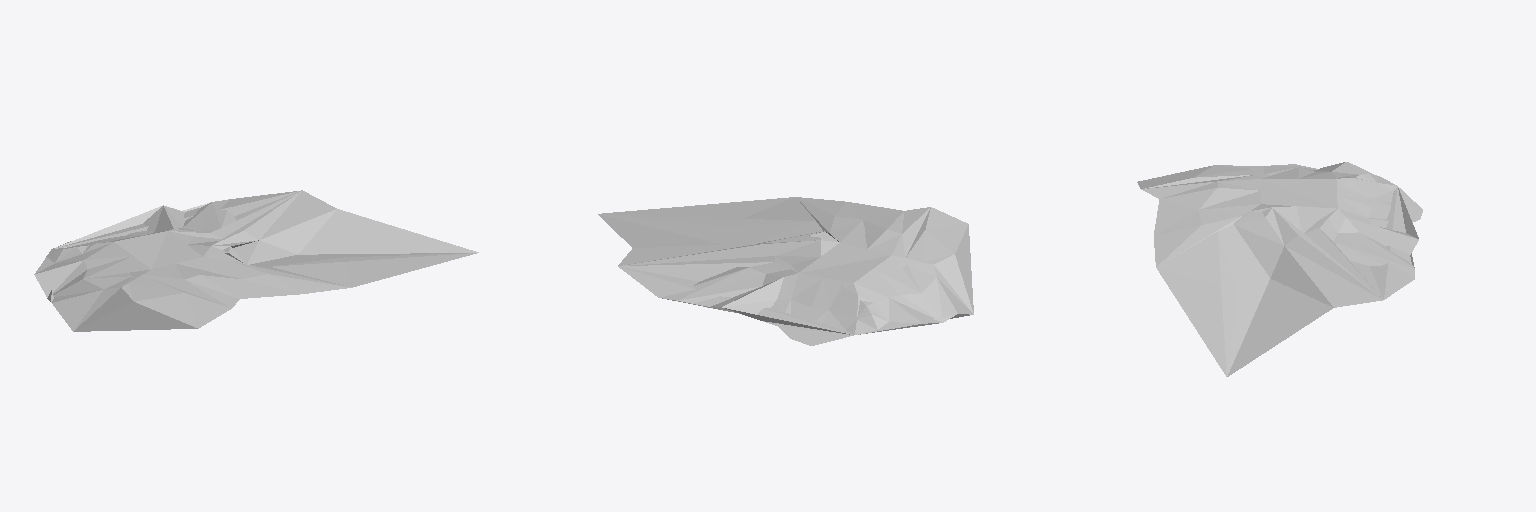
Rendered from ground.obj.
The picture shows the model from 3 angles: view 1: azimuth 30°, elevation 25°; view 2: azimuth 150°, elevation 25°; view 3: azimuth 270°, elevation 25°; orthographic projection.
Parts seen in each view (by area): view 1: Cube; view 2: Cube; view 3: Cube.
Boxes of the visible parts, x1=… form: Cube: x1=34, y1=190, x2=478, y2=331; Cube: x1=598, y1=197, x2=973, y2=345; Cube: x1=1137, y1=162, x2=1422, y2=376.
Bounding box in the file's own units: 2134 × 263 × 1343.